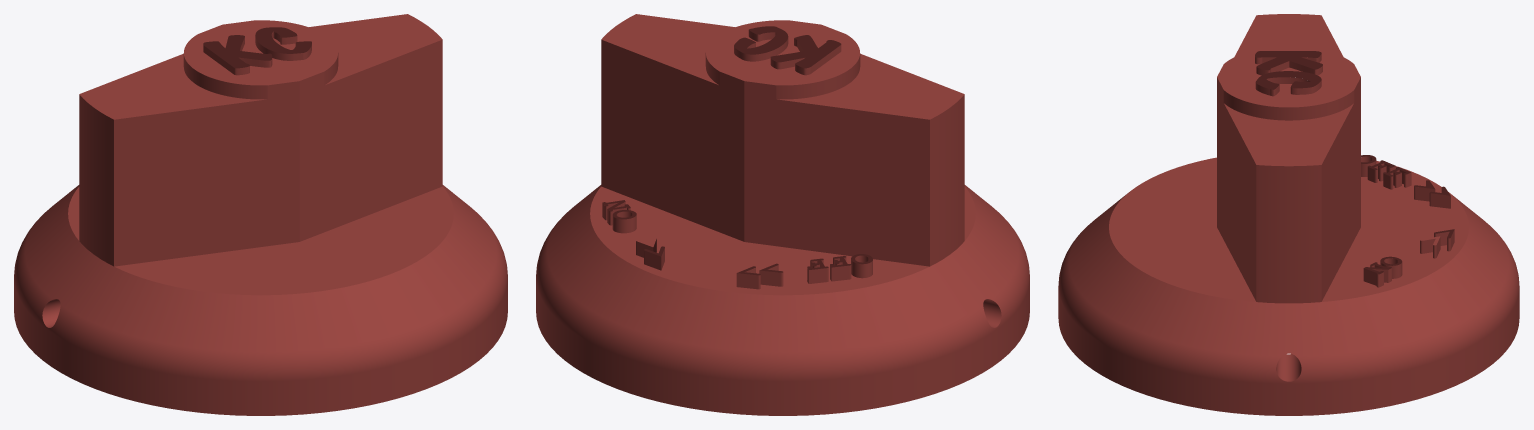
The model's file is knob.glb.
The picture shows the model from 3 angles, left to right: view 1: azimuth 30°, elevation 25°; view 2: azimuth 150°, elevation 25°; view 3: azimuth 270°, elevation 25°; orthographic projection. The views are drawn at different scales.
Bounding box in the file's own units: 0.064 × 0.038 × 0.064.
